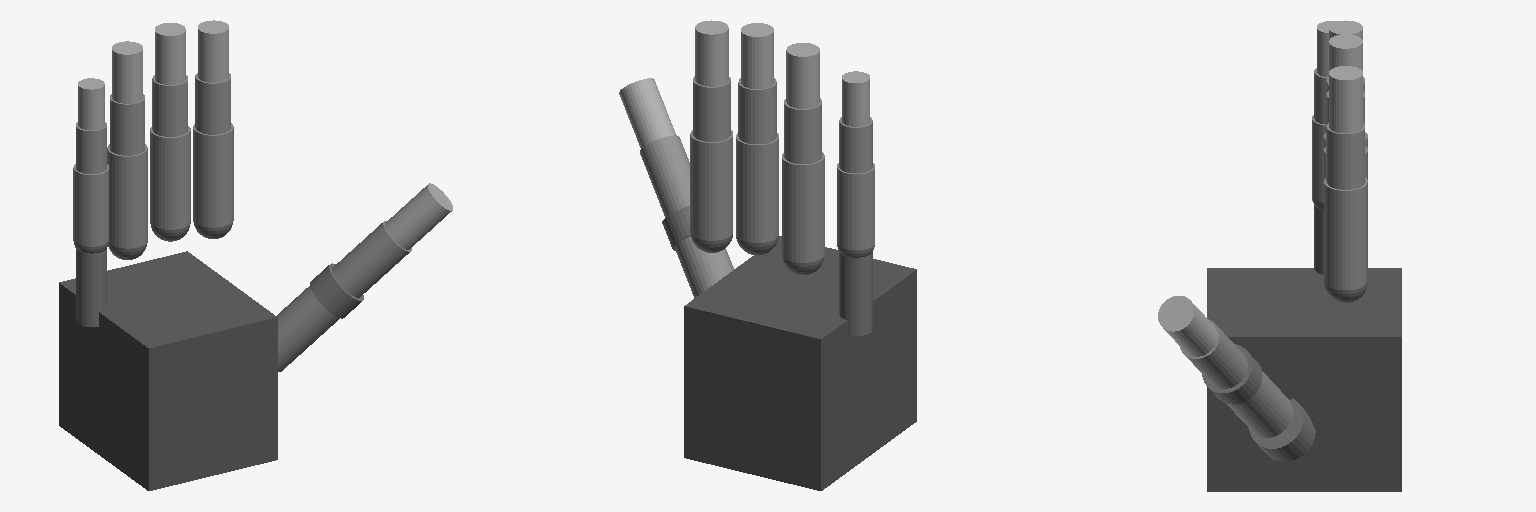
URDF robot description (shadowhand-right):
<?xml version="1.0" encoding="utf-8"?>
<robot name="shadowhand-right">
  <mujoco>
    <compiler balanceinertia="true" discardvisual="false" eulerseq="xyz" autolimits="true"/>
  </mujoco>

  <!-- Palm Link -->
  <link name="rh_palm">
    <inertial>
      <origin xyz="0 0 0.035" rpy="0 0 0"/>
      <mass value="0.3"/>
      <inertia ixx="0.0003" ixy="0" ixz="0" iyy="0.0002" iyz="0" izz="0.0001"/>
    </inertial>
    <visual>
      <origin xyz="0 0 0.035" rpy="0 0 0"/>
      <geometry>
        <box size="0.066 0.08 0.07"/>
      </geometry>
      <material name="grey">
        <color rgba="0.4 0.4 0.4 1"/>
      </material>
    </visual>
    <collision>
      <origin xyz="0 0 0.035" rpy="0 0 0"/>
      <geometry>
        <box size="0.066 0.08 0.07"/>
      </geometry>
    </collision>
  </link>

  <!-- ==================== THUMB ==================== -->
  <link name="rh_thbase">
    <inertial>
      <origin xyz="0 0 0" rpy="0 0 0"/>
      <mass value="0.01"/>
      <inertia ixx="1e-6" ixy="0" ixz="0" iyy="1e-6" iyz="0" izz="1e-6"/>
    </inertial>
    <visual>
      <origin xyz="0 0 0" rpy="0 0 0"/>
      <geometry>
        <cylinder radius="0.012" length="0.014"/>
      </geometry>
      <material name="darkgrey">
        <color rgba="0.5 0.5 0.5 1"/>
      </material>
    </visual>
    <collision>
      <origin xyz="0 0 0" rpy="0 0 0"/>
      <geometry>
        <cylinder radius="0.012" length="0.014"/>
      </geometry>
    </collision>
  </link>
  <joint name="rh_THJ5" type="revolute">
    <origin xyz="0.034 -0.009 0.029" rpy="0 0.7854 -0.5236"/>
    <parent link="rh_palm"/>
    <child link="rh_thbase"/>
    <axis xyz="0 0 1"/>
    <limit lower="-1.047" upper="1.047" effort="2" velocity="4"/>
  </joint>

  <link name="rh_thproximal">
    <inertial>
      <origin xyz="0 0 0.019" rpy="0 0 0"/>
      <mass value="0.04"/>
      <inertia ixx="1e-5" ixy="0" ixz="0" iyy="1e-5" iyz="0" izz="5e-6"/>
    </inertial>
    <visual>
      <origin xyz="0 0 0.019" rpy="0 0 0"/>
      <geometry>
        <cylinder radius="0.01" length="0.038"/>
      </geometry>
      <material name="lightgrey">
        <color rgba="0.6 0.6 0.6 1"/>
      </material>
    </visual>
    <collision>
      <origin xyz="0 0 0.019" rpy="0 0 0"/>
      <geometry>
        <cylinder radius="0.01" length="0.038"/>
      </geometry>
    </collision>
  </link>
  <joint name="rh_THJ4" type="revolute">
    <origin xyz="0 0 0.014" rpy="0 0 0"/>
    <parent link="rh_thbase"/>
    <child link="rh_thproximal"/>
    <axis xyz="1 0 0"/>
    <limit lower="0" upper="1.222" effort="2" velocity="4"/>
  </joint>

  <link name="rh_thhub">
    <inertial>
      <origin xyz="0 0 0.005" rpy="0 0 0"/>
      <mass value="0.01"/>
      <inertia ixx="1e-6" ixy="0" ixz="0" iyy="1e-6" iyz="0" izz="1e-6"/>
    </inertial>
    <visual>
      <origin xyz="0 0 0.006" rpy="0 0 0"/>
      <geometry>
        <cylinder radius="0.011" length="0.012"/>
      </geometry>
      <material name="darkgrey"/>
    </visual>
    <collision>
      <origin xyz="0 0 0.006" rpy="0 0 0"/>
      <geometry>
        <cylinder radius="0.011" length="0.012"/>
      </geometry>
    </collision>
  </link>
  <joint name="rh_THJ3" type="revolute">
    <origin xyz="0 0 0.038" rpy="0 0 0"/>
    <parent link="rh_thproximal"/>
    <child link="rh_thhub"/>
    <axis xyz="1 0 0"/>
    <limit lower="-0.209" upper="0.209" effort="1" velocity="4"/>
  </joint>

  <link name="rh_thmiddle">
    <inertial>
      <origin xyz="0 0 0.016" rpy="0 0 0"/>
      <mass value="0.026"/>
      <inertia ixx="8e-6" ixy="0" ixz="0" iyy="8e-6" iyz="0" izz="3e-6"/>
    </inertial>
    <visual>
      <origin xyz="0 0 0.016" rpy="0 0 0"/>
      <geometry>
        <cylinder radius="0.009" length="0.032"/>
      </geometry>
      <material name="lightgrey"/>
    </visual>
    <collision>
      <origin xyz="0 0 0.016" rpy="0 0 0"/>
      <geometry>
        <cylinder radius="0.009" length="0.032"/>
      </geometry>
    </collision>
  </link>
  <joint name="rh_THJ2" type="revolute">
    <origin xyz="0 0 0.012" rpy="0 0 0"/>
    <parent link="rh_thhub"/>
    <child link="rh_thmiddle"/>
    <axis xyz="1 0 0"/>
    <limit lower="-0.524" upper="0.524" effort="1" velocity="4"/>
  </joint>

  <link name="rh_thdistal">
    <inertial>
      <origin xyz="0 0 0.0135" rpy="0 0 0"/>
      <mass value="0.016"/>
      <inertia ixx="4e-6" ixy="0" ixz="0" iyy="4e-6" iyz="0" izz="2e-6"/>
    </inertial>
    <visual>
      <origin xyz="0 0 0.0135" rpy="0 0 0"/>
      <geometry>
        <cylinder radius="0.008" length="0.027"/>
      </geometry>
      <material name="white">
        <color rgba="0.7 0.7 0.7 1"/>
      </material>
    </visual>
    <collision>
      <origin xyz="0 0 0.0135" rpy="0 0 0"/>
      <geometry>
        <cylinder radius="0.008" length="0.027"/>
      </geometry>
    </collision>
  </link>
  <joint name="rh_THJ1" type="revolute">
    <origin xyz="0 0 0.032" rpy="0 0 0"/>
    <parent link="rh_thmiddle"/>
    <child link="rh_thdistal"/>
    <axis xyz="1 0 0"/>
    <limit lower="-0.262" upper="1.571" effort="0.5" velocity="4"/>
  </joint>

  <link name="rh_thtip">
    <inertial>
      <origin xyz="0 0 0" rpy="0 0 0"/>
      <mass value="0.001"/>
      <inertia ixx="1e-8" ixy="0" ixz="0" iyy="1e-8" iyz="0" izz="1e-8"/>
    </inertial>
  </link>
  <joint name="rh_thtip_fixed" type="fixed">
    <origin xyz="0 0 0.027" rpy="0 0 0"/>
    <parent link="rh_thdistal"/>
    <child link="rh_thtip"/>
  </joint>

  <!-- ==================== FIRST FINGER (INDEX) ==================== -->
  <link name="rh_ffknuckle">
    <inertial>
      <origin xyz="0 0 0" rpy="0 0 0"/>
      <mass value="0.008"/>
      <inertia ixx="5e-7" ixy="0" ixz="0" iyy="5e-7" iyz="0" izz="5e-7"/>
    </inertial>
    <visual>
      <origin xyz="0 0 0" rpy="0 0 0"/>
      <geometry>
        <sphere radius="0.009"/>
      </geometry>
      <material name="darkgrey"/>
    </visual>
    <collision>
      <origin xyz="0 0 0" rpy="0 0 0"/>
      <geometry>
        <sphere radius="0.009"/>
      </geometry>
    </collision>
  </link>
  <joint name="rh_FFJ4" type="revolute">
    <origin xyz="0.033 0.017 0.095" rpy="0 0 0"/>
    <parent link="rh_palm"/>
    <child link="rh_ffknuckle"/>
    <axis xyz="0 1 0"/>
    <limit lower="-0.349" upper="0.349" effort="0.5" velocity="4"/>
  </joint>

  <link name="rh_ffproximal">
    <inertial>
      <origin xyz="0 0 0.0225" rpy="0 0 0"/>
      <mass value="0.03"/>
      <inertia ixx="1.2e-5" ixy="0" ixz="0" iyy="1.2e-5" iyz="0" izz="4e-6"/>
    </inertial>
    <visual>
      <origin xyz="0 0 0.0225" rpy="0 0 0"/>
      <geometry>
        <cylinder radius="0.009" length="0.045"/>
      </geometry>
      <material name="lightgrey"/>
    </visual>
    <collision>
      <origin xyz="0 0 0.0225" rpy="0 0 0"/>
      <geometry>
        <cylinder radius="0.009" length="0.045"/>
      </geometry>
    </collision>
  </link>
  <joint name="rh_FFJ3" type="revolute">
    <origin xyz="0 0 0" rpy="0 0 0"/>
    <parent link="rh_ffknuckle"/>
    <child link="rh_ffproximal"/>
    <axis xyz="1 0 0"/>
    <limit lower="0" upper="1.571" effort="2" velocity="4"/>
  </joint>

  <link name="rh_ffmiddle">
    <inertial>
      <origin xyz="0 0 0.0125" rpy="0 0 0"/>
      <mass value="0.017"/>
      <inertia ixx="5e-6" ixy="0" ixz="0" iyy="5e-6" iyz="0" izz="2e-6"/>
    </inertial>
    <visual>
      <origin xyz="0 0 0.0125" rpy="0 0 0"/>
      <geometry>
        <cylinder radius="0.008" length="0.025"/>
      </geometry>
      <material name="lightgrey"/>
    </visual>
    <collision>
      <origin xyz="0 0 0.0125" rpy="0 0 0"/>
      <geometry>
        <cylinder radius="0.008" length="0.025"/>
      </geometry>
    </collision>
  </link>
  <joint name="rh_FFJ2" type="revolute">
    <origin xyz="0 0 0.045" rpy="0 0 0"/>
    <parent link="rh_ffproximal"/>
    <child link="rh_ffmiddle"/>
    <axis xyz="1 0 0"/>
    <limit lower="0" upper="1.571" effort="1" velocity="4"/>
  </joint>

  <link name="rh_ffdistal">
    <inertial>
      <origin xyz="0 0 0.012" rpy="0 0 0"/>
      <mass value="0.012"/>
      <inertia ixx="3e-6" ixy="0" ixz="0" iyy="3e-6" iyz="0" izz="1e-6"/>
    </inertial>
    <visual>
      <origin xyz="0 0 0.012" rpy="0 0 0"/>
      <geometry>
        <cylinder radius="0.007" length="0.024"/>
      </geometry>
      <material name="white"/>
    </visual>
    <collision>
      <origin xyz="0 0 0.012" rpy="0 0 0"/>
      <geometry>
        <cylinder radius="0.007" length="0.024"/>
      </geometry>
    </collision>
  </link>
  <joint name="rh_FFJ1" type="revolute">
    <origin xyz="0 0 0.025" rpy="0 0 0"/>
    <parent link="rh_ffmiddle"/>
    <child link="rh_ffdistal"/>
    <axis xyz="1 0 0"/>
    <limit lower="0" upper="1.571" effort="0.5" velocity="4"/>
  </joint>

  <link name="rh_fftip">
    <inertial>
      <origin xyz="0 0 0" rpy="0 0 0"/>
      <mass value="0.001"/>
      <inertia ixx="1e-8" ixy="0" ixz="0" iyy="1e-8" iyz="0" izz="1e-8"/>
    </inertial>
  </link>
  <joint name="rh_fftip_fixed" type="fixed">
    <origin xyz="0 0 0.024" rpy="0 0 0"/>
    <parent link="rh_ffdistal"/>
    <child link="rh_fftip"/>
  </joint>

  <!-- ==================== MIDDLE FINGER ==================== -->
  <link name="rh_mfknuckle">
    <inertial>
      <origin xyz="0 0 0" rpy="0 0 0"/>
      <mass value="0.008"/>
      <inertia ixx="5e-7" ixy="0" ixz="0" iyy="5e-7" iyz="0" izz="5e-7"/>
    </inertial>
    <visual>
      <origin xyz="0 0 0" rpy="0 0 0"/>
      <geometry>
        <sphere radius="0.009"/>
      </geometry>
      <material name="darkgrey"/>
    </visual>
    <collision>
      <origin xyz="0 0 0" rpy="0 0 0"/>
      <geometry>
        <sphere radius="0.009"/>
      </geometry>
    </collision>
  </link>
  <joint name="rh_MFJ4" type="revolute">
    <origin xyz="0.011 0.017 0.099" rpy="0 0 0"/>
    <parent link="rh_palm"/>
    <child link="rh_mfknuckle"/>
    <axis xyz="0 1 0"/>
    <limit lower="-0.349" upper="0.349" effort="0.5" velocity="4"/>
  </joint>

  <link name="rh_mfproximal">
    <inertial>
      <origin xyz="0 0 0.0225" rpy="0 0 0"/>
      <mass value="0.03"/>
      <inertia ixx="1.2e-5" ixy="0" ixz="0" iyy="1.2e-5" iyz="0" izz="4e-6"/>
    </inertial>
    <visual>
      <origin xyz="0 0 0.0225" rpy="0 0 0"/>
      <geometry>
        <cylinder radius="0.009" length="0.045"/>
      </geometry>
      <material name="lightgrey"/>
    </visual>
    <collision>
      <origin xyz="0 0 0.0225" rpy="0 0 0"/>
      <geometry>
        <cylinder radius="0.009" length="0.045"/>
      </geometry>
    </collision>
  </link>
  <joint name="rh_MFJ3" type="revolute">
    <origin xyz="0 0 0" rpy="0 0 0"/>
    <parent link="rh_mfknuckle"/>
    <child link="rh_mfproximal"/>
    <axis xyz="1 0 0"/>
    <limit lower="0" upper="1.571" effort="2" velocity="4"/>
  </joint>

  <link name="rh_mfmiddle">
    <inertial>
      <origin xyz="0 0 0.0125" rpy="0 0 0"/>
      <mass value="0.017"/>
      <inertia ixx="5e-6" ixy="0" ixz="0" iyy="5e-6" iyz="0" izz="2e-6"/>
    </inertial>
    <visual>
      <origin xyz="0 0 0.0125" rpy="0 0 0"/>
      <geometry>
        <cylinder radius="0.008" length="0.025"/>
      </geometry>
      <material name="lightgrey"/>
    </visual>
    <collision>
      <origin xyz="0 0 0.0125" rpy="0 0 0"/>
      <geometry>
        <cylinder radius="0.008" length="0.025"/>
      </geometry>
    </collision>
  </link>
  <joint name="rh_MFJ2" type="revolute">
    <origin xyz="0 0 0.045" rpy="0 0 0"/>
    <parent link="rh_mfproximal"/>
    <child link="rh_mfmiddle"/>
    <axis xyz="1 0 0"/>
    <limit lower="0" upper="1.571" effort="1" velocity="4"/>
  </joint>

  <link name="rh_mfdistal">
    <inertial>
      <origin xyz="0 0 0.012" rpy="0 0 0"/>
      <mass value="0.012"/>
      <inertia ixx="3e-6" ixy="0" ixz="0" iyy="3e-6" iyz="0" izz="1e-6"/>
    </inertial>
    <visual>
      <origin xyz="0 0 0.012" rpy="0 0 0"/>
      <geometry>
        <cylinder radius="0.007" length="0.024"/>
      </geometry>
      <material name="white"/>
    </visual>
    <collision>
      <origin xyz="0 0 0.012" rpy="0 0 0"/>
      <geometry>
        <cylinder radius="0.007" length="0.024"/>
      </geometry>
    </collision>
  </link>
  <joint name="rh_MFJ1" type="revolute">
    <origin xyz="0 0 0.025" rpy="0 0 0"/>
    <parent link="rh_mfmiddle"/>
    <child link="rh_mfdistal"/>
    <axis xyz="1 0 0"/>
    <limit lower="0" upper="1.571" effort="0.5" velocity="4"/>
  </joint>

  <link name="rh_mftip">
    <inertial>
      <origin xyz="0 0 0" rpy="0 0 0"/>
      <mass value="0.001"/>
      <inertia ixx="1e-8" ixy="0" ixz="0" iyy="1e-8" iyz="0" izz="1e-8"/>
    </inertial>
  </link>
  <joint name="rh_mftip_fixed" type="fixed">
    <origin xyz="0 0 0.024" rpy="0 0 0"/>
    <parent link="rh_mfdistal"/>
    <child link="rh_mftip"/>
  </joint>

  <!-- ==================== RING FINGER ==================== -->
  <link name="rh_rfknuckle">
    <inertial>
      <origin xyz="0 0 0" rpy="0 0 0"/>
      <mass value="0.008"/>
      <inertia ixx="5e-7" ixy="0" ixz="0" iyy="5e-7" iyz="0" izz="5e-7"/>
    </inertial>
    <visual>
      <origin xyz="0 0 0" rpy="0 0 0"/>
      <geometry>
        <sphere radius="0.009"/>
      </geometry>
      <material name="darkgrey"/>
    </visual>
    <collision>
      <origin xyz="0 0 0" rpy="0 0 0"/>
      <geometry>
        <sphere radius="0.009"/>
      </geometry>
    </collision>
  </link>
  <joint name="rh_RFJ4" type="revolute">
    <origin xyz="-0.011 0.017 0.095" rpy="0 0 0"/>
    <parent link="rh_palm"/>
    <child link="rh_rfknuckle"/>
    <axis xyz="0 1 0"/>
    <limit lower="-0.349" upper="0.349" effort="0.5" velocity="4"/>
  </joint>

  <link name="rh_rfproximal">
    <inertial>
      <origin xyz="0 0 0.0225" rpy="0 0 0"/>
      <mass value="0.03"/>
      <inertia ixx="1.2e-5" ixy="0" ixz="0" iyy="1.2e-5" iyz="0" izz="4e-6"/>
    </inertial>
    <visual>
      <origin xyz="0 0 0.0225" rpy="0 0 0"/>
      <geometry>
        <cylinder radius="0.009" length="0.045"/>
      </geometry>
      <material name="lightgrey"/>
    </visual>
    <collision>
      <origin xyz="0 0 0.0225" rpy="0 0 0"/>
      <geometry>
        <cylinder radius="0.009" length="0.045"/>
      </geometry>
    </collision>
  </link>
  <joint name="rh_RFJ3" type="revolute">
    <origin xyz="0 0 0" rpy="0 0 0"/>
    <parent link="rh_rfknuckle"/>
    <child link="rh_rfproximal"/>
    <axis xyz="1 0 0"/>
    <limit lower="0" upper="1.571" effort="2" velocity="4"/>
  </joint>

  <link name="rh_rfmiddle">
    <inertial>
      <origin xyz="0 0 0.0125" rpy="0 0 0"/>
      <mass value="0.017"/>
      <inertia ixx="5e-6" ixy="0" ixz="0" iyy="5e-6" iyz="0" izz="2e-6"/>
    </inertial>
    <visual>
      <origin xyz="0 0 0.0125" rpy="0 0 0"/>
      <geometry>
        <cylinder radius="0.008" length="0.025"/>
      </geometry>
      <material name="lightgrey"/>
    </visual>
    <collision>
      <origin xyz="0 0 0.0125" rpy="0 0 0"/>
      <geometry>
        <cylinder radius="0.008" length="0.025"/>
      </geometry>
    </collision>
  </link>
  <joint name="rh_RFJ2" type="revolute">
    <origin xyz="0 0 0.045" rpy="0 0 0"/>
    <parent link="rh_rfproximal"/>
    <child link="rh_rfmiddle"/>
    <axis xyz="1 0 0"/>
    <limit lower="0" upper="1.571" effort="1" velocity="4"/>
  </joint>

  <link name="rh_rfdistal">
    <inertial>
      <origin xyz="0 0 0.012" rpy="0 0 0"/>
      <mass value="0.012"/>
      <inertia ixx="3e-6" ixy="0" ixz="0" iyy="3e-6" iyz="0" izz="1e-6"/>
    </inertial>
    <visual>
      <origin xyz="0 0 0.012" rpy="0 0 0"/>
      <geometry>
        <cylinder radius="0.007" length="0.024"/>
      </geometry>
      <material name="white"/>
    </visual>
    <collision>
      <origin xyz="0 0 0.012" rpy="0 0 0"/>
      <geometry>
        <cylinder radius="0.007" length="0.024"/>
      </geometry>
    </collision>
  </link>
  <joint name="rh_RFJ1" type="revolute">
    <origin xyz="0 0 0.025" rpy="0 0 0"/>
    <parent link="rh_rfmiddle"/>
    <child link="rh_rfdistal"/>
    <axis xyz="1 0 0"/>
    <limit lower="0" upper="1.571" effort="0.5" velocity="4"/>
  </joint>

  <link name="rh_rftip">
    <inertial>
      <origin xyz="0 0 0" rpy="0 0 0"/>
      <mass value="0.001"/>
      <inertia ixx="1e-8" ixy="0" ixz="0" iyy="1e-8" iyz="0" izz="1e-8"/>
    </inertial>
  </link>
  <joint name="rh_rftip_fixed" type="fixed">
    <origin xyz="0 0 0.024" rpy="0 0 0"/>
    <parent link="rh_rfdistal"/>
    <child link="rh_rftip"/>
  </joint>

  <!-- ==================== LITTLE FINGER ==================== -->
  <link name="rh_lfmetacarpal">
    <inertial>
      <origin xyz="0 0 0.02" rpy="0 0 0"/>
      <mass value="0.02"/>
      <inertia ixx="8e-6" ixy="0" ixz="0" iyy="8e-6" iyz="0" izz="3e-6"/>
    </inertial>
    <visual>
      <origin xyz="0 0 0.02" rpy="0 0 0"/>
      <geometry>
        <cylinder radius="0.007" length="0.04"/>
      </geometry>
      <material name="darkgrey"/>
    </visual>
    <collision>
      <origin xyz="0 0 0.02" rpy="0 0 0"/>
      <geometry>
        <cylinder radius="0.007" length="0.04"/>
      </geometry>
    </collision>
  </link>
  <joint name="rh_LFJ5" type="revolute">
    <origin xyz="-0.033 0.011 0.063" rpy="0 0 -0.0873"/>
    <parent link="rh_palm"/>
    <child link="rh_lfmetacarpal"/>
    <axis xyz="0 1 0"/>
    <limit lower="0" upper="0.698" effort="1" velocity="4"/>
  </joint>

  <link name="rh_lfknuckle">
    <inertial>
      <origin xyz="0 0 0" rpy="0 0 0"/>
      <mass value="0.008"/>
      <inertia ixx="5e-7" ixy="0" ixz="0" iyy="5e-7" iyz="0" izz="5e-7"/>
    </inertial>
    <visual>
      <origin xyz="0 0 0" rpy="0 0 0"/>
      <geometry>
        <sphere radius="0.008"/>
      </geometry>
      <material name="darkgrey"/>
    </visual>
    <collision>
      <origin xyz="0 0 0" rpy="0 0 0"/>
      <geometry>
        <sphere radius="0.008"/>
      </geometry>
    </collision>
  </link>
  <joint name="rh_LFJ4" type="revolute">
    <origin xyz="0 0 0.04" rpy="0 0 0"/>
    <parent link="rh_lfmetacarpal"/>
    <child link="rh_lfknuckle"/>
    <axis xyz="0 1 0"/>
    <limit lower="-0.349" upper="0.349" effort="0.5" velocity="4"/>
  </joint>

  <link name="rh_lfproximal">
    <inertial>
      <origin xyz="0 0 0.0175" rpy="0 0 0"/>
      <mass value="0.025"/>
      <inertia ixx="8e-6" ixy="0" ixz="0" iyy="8e-6" iyz="0" izz="3e-6"/>
    </inertial>
    <visual>
      <origin xyz="0 0 0.0175" rpy="0 0 0"/>
      <geometry>
        <cylinder radius="0.008" length="0.035"/>
      </geometry>
      <material name="lightgrey"/>
    </visual>
    <collision>
      <origin xyz="0 0 0.0175" rpy="0 0 0"/>
      <geometry>
        <cylinder radius="0.008" length="0.035"/>
      </geometry>
    </collision>
  </link>
  <joint name="rh_LFJ3" type="revolute">
    <origin xyz="0 0 0" rpy="0 0 0"/>
    <parent link="rh_lfknuckle"/>
    <child link="rh_lfproximal"/>
    <axis xyz="1 0 0"/>
    <limit lower="0" upper="1.571" effort="2" velocity="4"/>
  </joint>

  <link name="rh_lfmiddle">
    <inertial>
      <origin xyz="0 0 0.0105" rpy="0 0 0"/>
      <mass value="0.014"/>
      <inertia ixx="4e-6" ixy="0" ixz="0" iyy="4e-6" iyz="0" izz="1.5e-6"/>
    </inertial>
    <visual>
      <origin xyz="0 0 0.0105" rpy="0 0 0"/>
      <geometry>
        <cylinder radius="0.007" length="0.021"/>
      </geometry>
      <material name="lightgrey"/>
    </visual>
    <collision>
      <origin xyz="0 0 0.0105" rpy="0 0 0"/>
      <geometry>
        <cylinder radius="0.007" length="0.021"/>
      </geometry>
    </collision>
  </link>
  <joint name="rh_LFJ2" type="revolute">
    <origin xyz="0 0 0.035" rpy="0 0 0"/>
    <parent link="rh_lfproximal"/>
    <child link="rh_lfmiddle"/>
    <axis xyz="1 0 0"/>
    <limit lower="0" upper="1.571" effort="1" velocity="4"/>
  </joint>

  <link name="rh_lfdistal">
    <inertial>
      <origin xyz="0 0 0.01" rpy="0 0 0"/>
      <mass value="0.01"/>
      <inertia ixx="2e-6" ixy="0" ixz="0" iyy="2e-6" iyz="0" izz="1e-6"/>
    </inertial>
    <visual>
      <origin xyz="0 0 0.01" rpy="0 0 0"/>
      <geometry>
        <cylinder radius="0.006" length="0.020"/>
      </geometry>
      <material name="white"/>
    </visual>
    <collision>
      <origin xyz="0 0 0.01" rpy="0 0 0"/>
      <geometry>
        <cylinder radius="0.006" length="0.020"/>
      </geometry>
    </collision>
  </link>
  <joint name="rh_LFJ1" type="revolute">
    <origin xyz="0 0 0.021" rpy="0 0 0"/>
    <parent link="rh_lfmiddle"/>
    <child link="rh_lfdistal"/>
    <axis xyz="1 0 0"/>
    <limit lower="0" upper="1.571" effort="0.5" velocity="4"/>
  </joint>

  <link name="rh_lftip">
    <inertial>
      <origin xyz="0 0 0" rpy="0 0 0"/>
      <mass value="0.001"/>
      <inertia ixx="1e-8" ixy="0" ixz="0" iyy="1e-8" iyz="0" izz="1e-8"/>
    </inertial>
  </link>
  <joint name="rh_lftip_fixed" type="fixed">
    <origin xyz="0 0 0.020" rpy="0 0 0"/>
    <parent link="rh_lfdistal"/>
    <child link="rh_lftip"/>
  </joint>
</robot>

--- Facts derived from the render (not from the file) ---
The picture shows the robot from 3 angles, left to right: view 1: azimuth 30°, elevation 25°; view 2: azimuth 150°, elevation 25°; view 3: azimuth 270°, elevation 25°; orthographic projection.
Model shadowhand-right with 28 links and 27 joints (22 revolute, 5 fixed), rooted at rh_palm, posed all joints at 0.
Visible links, largest first — view 1: rh_palm, rh_ffproximal, rh_mfproximal, rh_rfproximal, rh_thmiddle, rh_thproximal, rh_lfproximal, rh_thdistal, rh_lfmetacarpal, rh_ffmiddle, rh_mfmiddle, rh_rfdistal (+6 smaller); view 2: rh_palm, rh_rfproximal, rh_ffproximal, rh_mfproximal, rh_lfproximal, rh_thmiddle, rh_lfmetacarpal, rh_thdistal, rh_mfmiddle, rh_rfdistal, rh_ffdistal, rh_ffmiddle (+6 smaller); view 3: rh_palm, rh_ffproximal, rh_thdistal, rh_ffmiddle, rh_thproximal, rh_ffdistal, rh_thmiddle, rh_thbase, rh_thhub, rh_mfdistal, rh_lfproximal, rh_lfdistal (+2 smaller).
Boxes of the visible links, <box> form: rh_palm: <box>59,251,277,490</box>; rh_ffproximal: <box>193,123,233,227</box>; rh_mfproximal: <box>150,126,190,229</box>; rh_rfproximal: <box>107,144,147,248</box>; rh_thmiddle: <box>332,221,411,297</box>; rh_thproximal: <box>277,286,339,371</box>; rh_lfproximal: <box>73,164,108,246</box>; rh_thdistal: <box>385,183,452,249</box>; rh_lfmetacarpal: <box>76,249,106,326</box>; rh_ffmiddle: <box>195,73,230,134</box>; rh_mfmiddle: <box>152,75,187,136</box>; rh_rfdistal: <box>112,41,142,103</box>; rh_palm: <box>684,236,916,490</box>; rh_rfproximal: <box>782,152,824,262</box>; rh_ffproximal: <box>690,130,732,240</box>; rh_mfproximal: <box>736,133,778,242</box>; rh_lfproximal: <box>837,163,874,250</box>; rh_thmiddle: <box>640,135,689,217</box>; rh_lfmetacarpal: <box>839,252,872,335</box>; rh_thdistal: <box>619,78,675,148</box>; rh_mfmiddle: <box>738,78,776,143</box>; rh_rfdistal: <box>786,43,819,108</box>; rh_ffdistal: <box>695,20,728,86</box>; rh_ffmiddle: <box>693,76,730,141</box>; rh_palm: <box>1207,268,1401,491</box>; rh_ffproximal: <box>1324,177,1367,289</box>; rh_thdistal: <box>1158,296,1217,356</box>; rh_ffmiddle: <box>1326,123,1364,189</box>; rh_thproximal: <box>1226,371,1292,437</box>; rh_ffdistal: <box>1329,66,1362,132</box>; rh_thmiddle: <box>1180,319,1247,388</box>; rh_thbase: <box>1249,398,1315,461</box>; rh_thhub: <box>1202,344,1262,404</box>; rh_mfdistal: <box>1329,34,1362,70</box>; rh_lfproximal: <box>1312,115,1325,202</box>; rh_lfdistal: <box>1317,21,1336,76</box>.
Bounding box of the posed robot: 0.1566 × 0.1 × 0.193 m (x, y, z).
Geometry: primitives only (box / cylinder / sphere), no mesh files.
